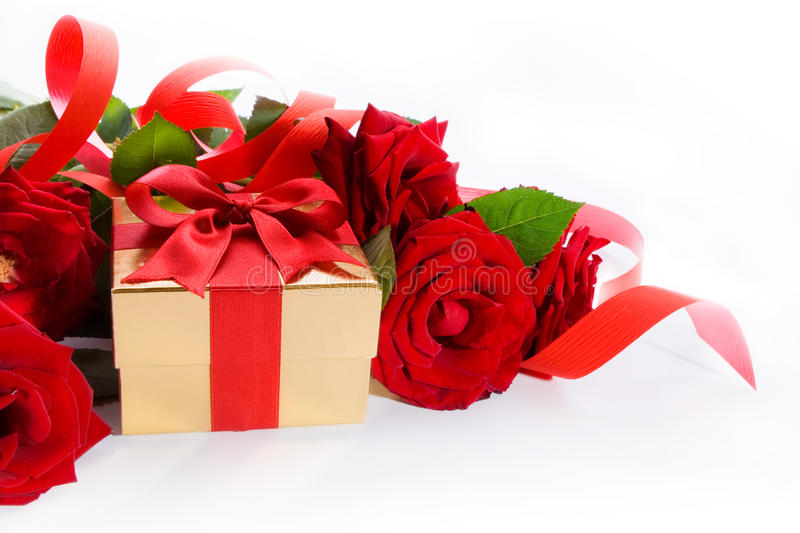RedRose: (370, 213, 534, 418), (0, 284, 113, 515), (310, 104, 493, 237), (0, 161, 118, 323), (528, 212, 621, 350)
